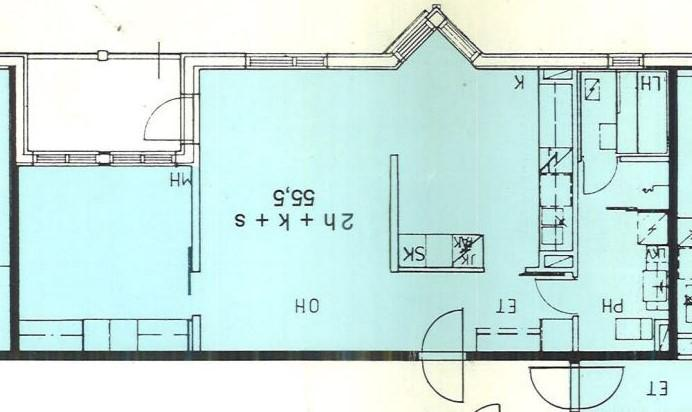door: (140, 93, 199, 145), (418, 303, 468, 360), (417, 351, 469, 405), (526, 364, 581, 411), (569, 366, 626, 409), (532, 276, 581, 317), (580, 154, 621, 197)
perimeter: (15, 9, 678, 361)
window: (379, 14, 438, 65), (434, 15, 485, 65), (238, 52, 335, 73), (27, 148, 107, 171), (104, 150, 180, 172), (601, 50, 650, 75)
